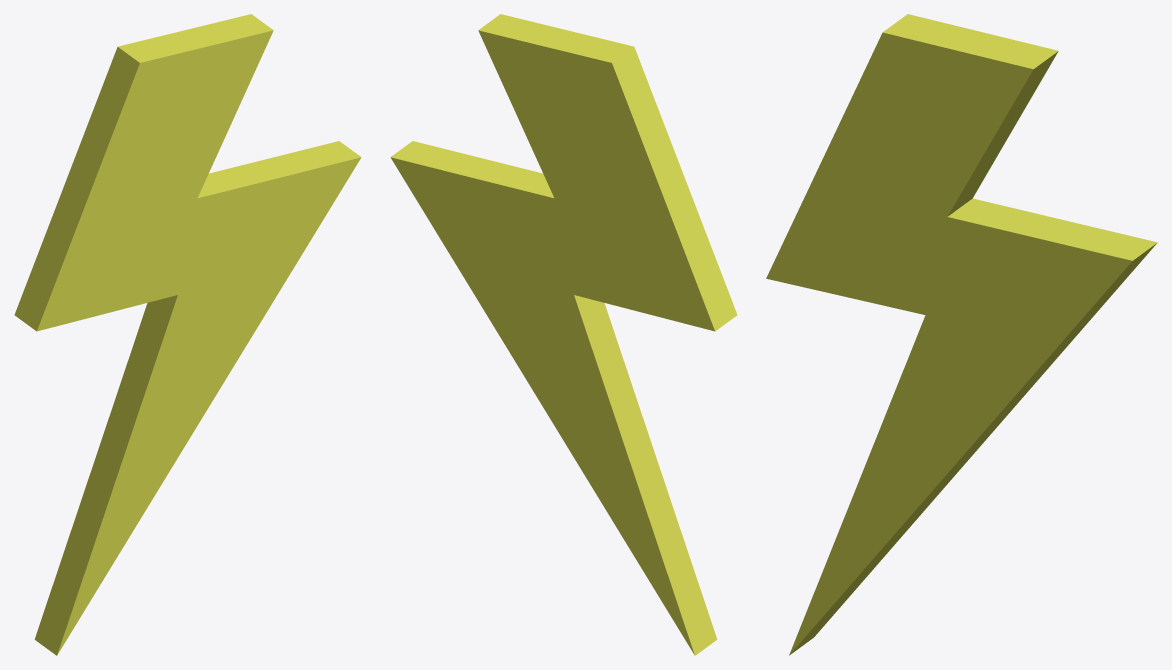
File: Energy.glb
3 views of the same model, side by side, from view 1: azimuth 30°, elevation 25°; view 2: azimuth 150°, elevation 25°; view 3: azimuth 330°, elevation 25° (orthographic). The views are drawn at different scales.
Visible parts, largest first — view 1: Plane.001_0; view 2: Plane.001_0; view 3: Plane.001_0.
Part boxes in pixels (<box>): Plane.001_0: <box>14,14,361,655</box>; Plane.001_0: <box>390,14,737,655</box>; Plane.001_0: <box>766,14,1157,655</box>.
Size of the model in its own units: 1.58 by 2.66 by 0.1881.
